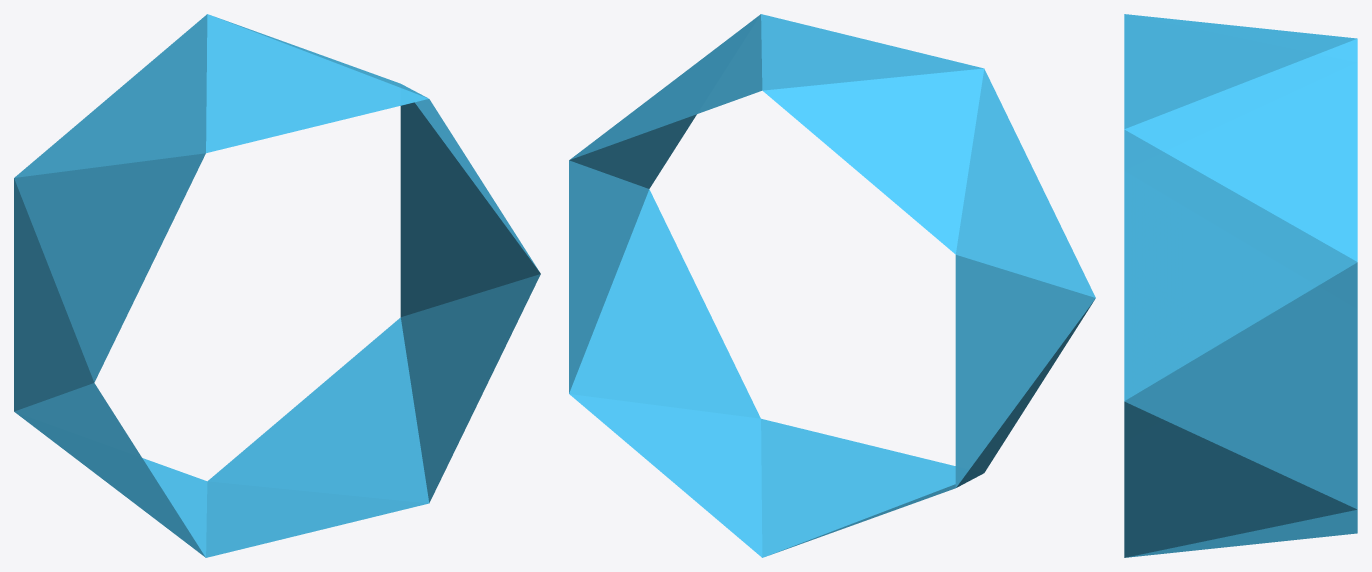
Rendered from HexagonalAntiprismA.obj.
The picture shows the model from 3 angles, left to right: view 1: azimuth 30°, elevation 25°; view 2: azimuth 150°, elevation 25°; view 3: azimuth 270°, elevation 25°; orthographic projection. The views are drawn at different scales.
Bounding box in the file's own units: 2 × 2 × 0.8556.
